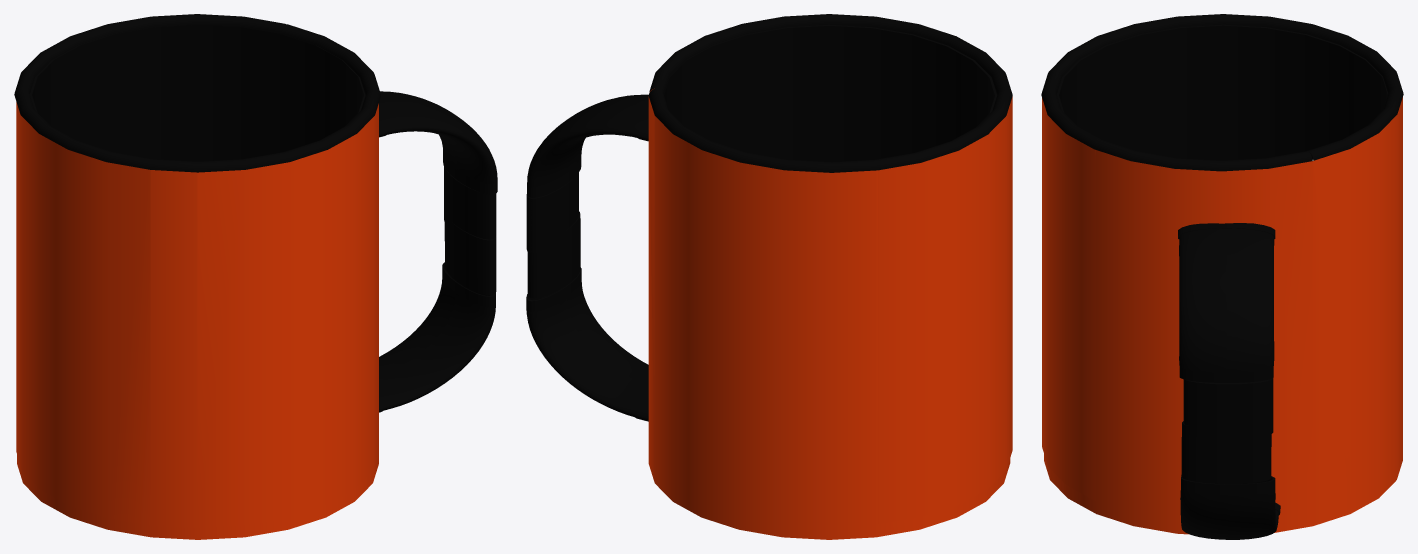
Rendered from mug_09_origin_gt_7.dae.
The picture shows the model from 3 angles, left to right: view 1: azimuth 30°, elevation 25°; view 2: azimuth 150°, elevation 25°; view 3: azimuth 270°, elevation 25°; orthographic projection.
Visible parts, largest first — view 1: SketchUp (×3), ASTMF758_90_8_X_36R (×4), Handle_section_1 (×2); view 2: SketchUp (×3), ASTMF758_90_8_X_36R (×4), Handle_section_1 (×2); view 3: SketchUp (×3), ASTMF758_90_8_X_36R (×8), Handle_section_1 (×2).
Part boxes in pixels (x1,y1,x2,y2): SketchUp (×3): (14,14,380,539); ASTMF758_90_8_X_36R (×4): (379,91,497,410); Handle_section_1 (×2): (444,167,496,295); SketchUp (×3): (648,14,1012,539); ASTMF758_90_8_X_36R (×4): (526,94,648,417); Handle_section_1 (×2): (526,172,580,298); SketchUp (×3): (1041,14,1403,534); ASTMF758_90_8_X_36R (×8): (1179,228,1278,539); Handle_section_1 (×2): (1181,378,1273,483).
Size of the model in its own units: 8.54 by 6.05 by 6.87.
